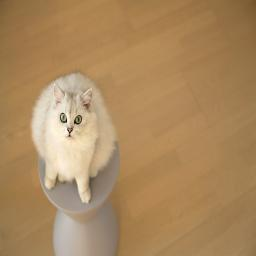catnose: (67, 126, 73, 134)
